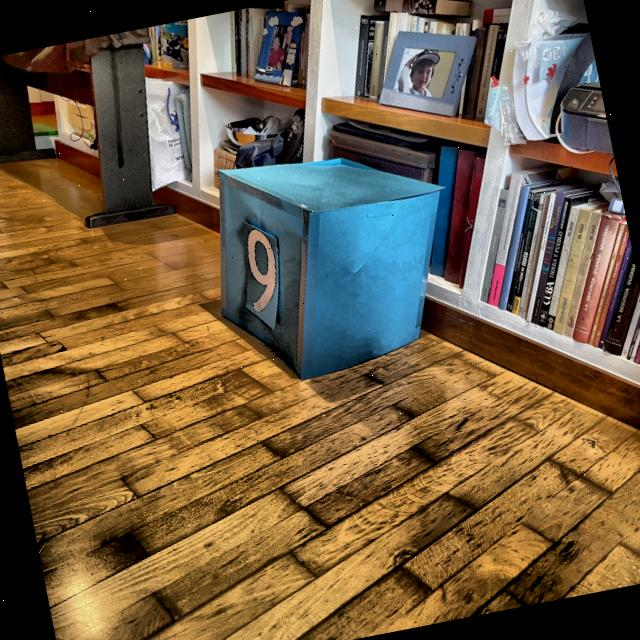blue box: (186, 127, 468, 394)
nine: (230, 220, 290, 324)
